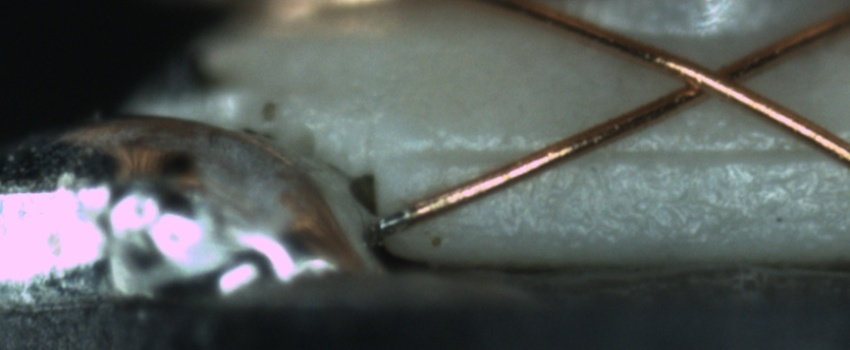CL: (659, 45, 766, 110)
DL: (388, 127, 850, 183)
TS: (377, 205, 409, 234)
